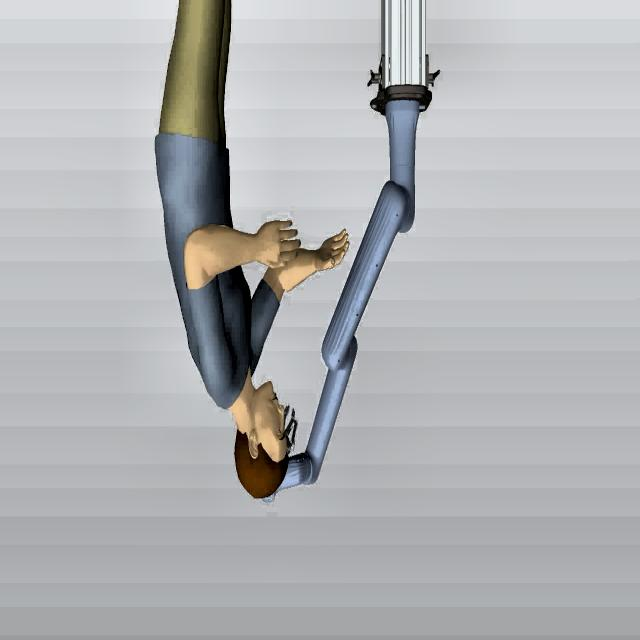human: (154, 1, 350, 502)
robot: (259, 86, 429, 506)
